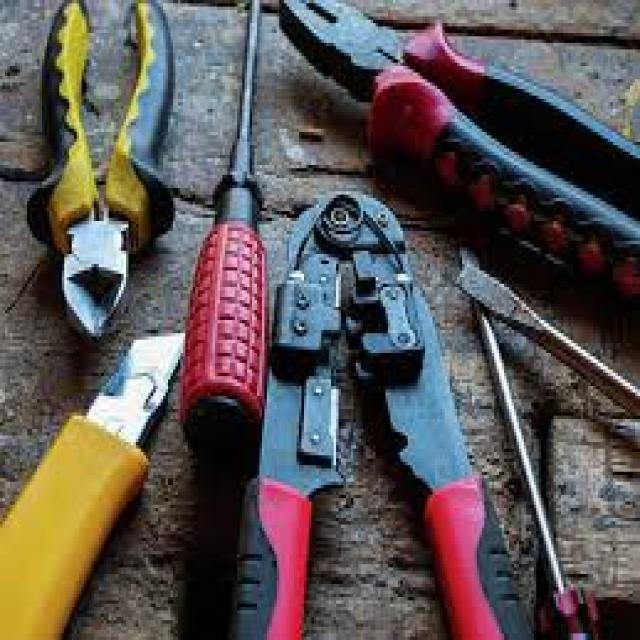screwdriver: (168, 0, 274, 462)
